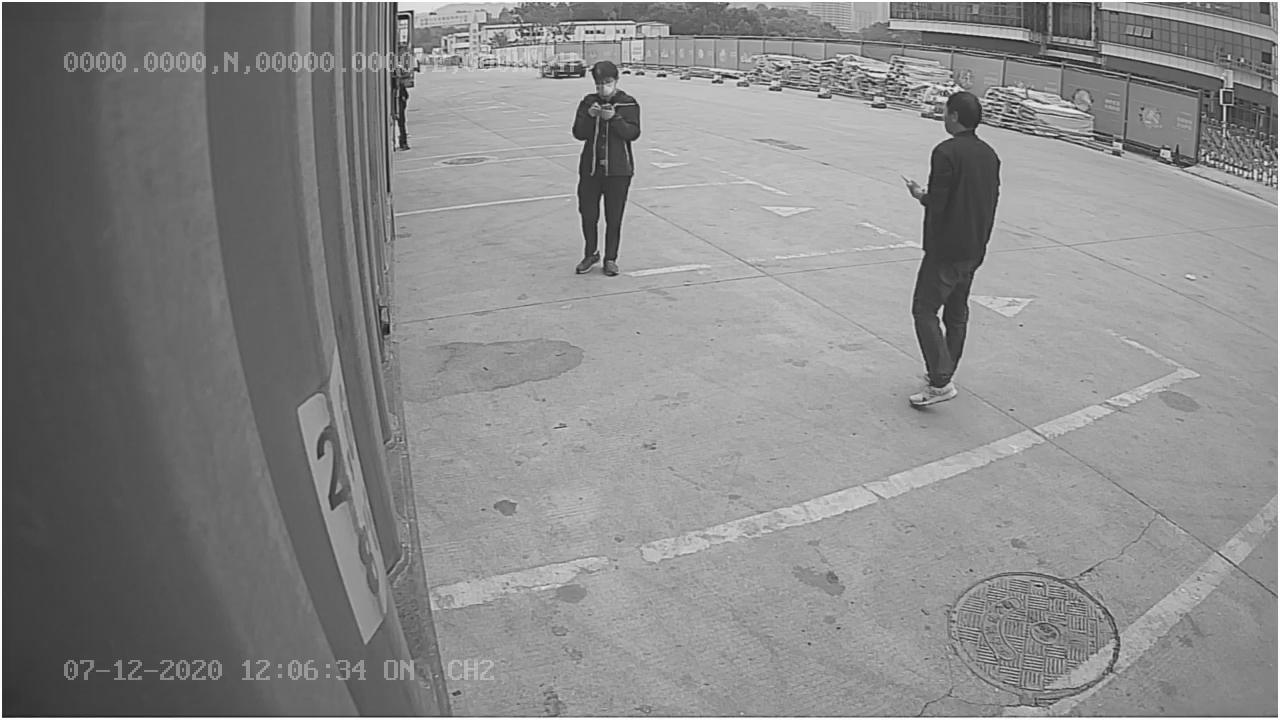person: (898, 79, 1002, 409), (565, 56, 643, 276)
